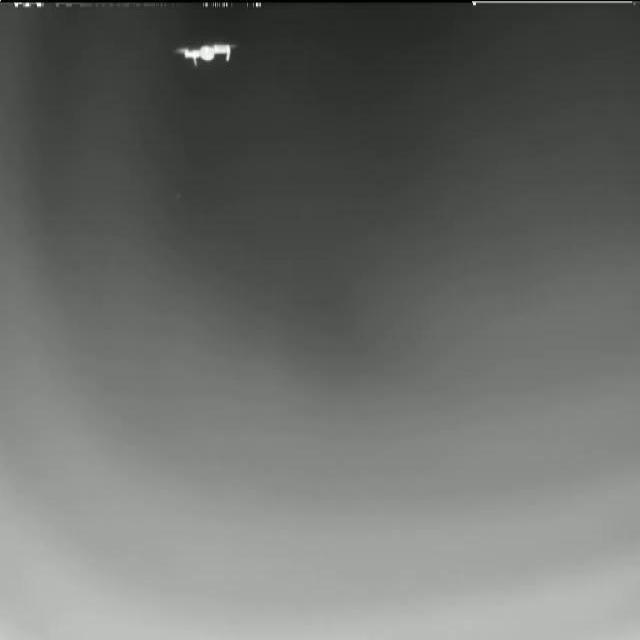DRONE: (173, 40, 240, 67)
